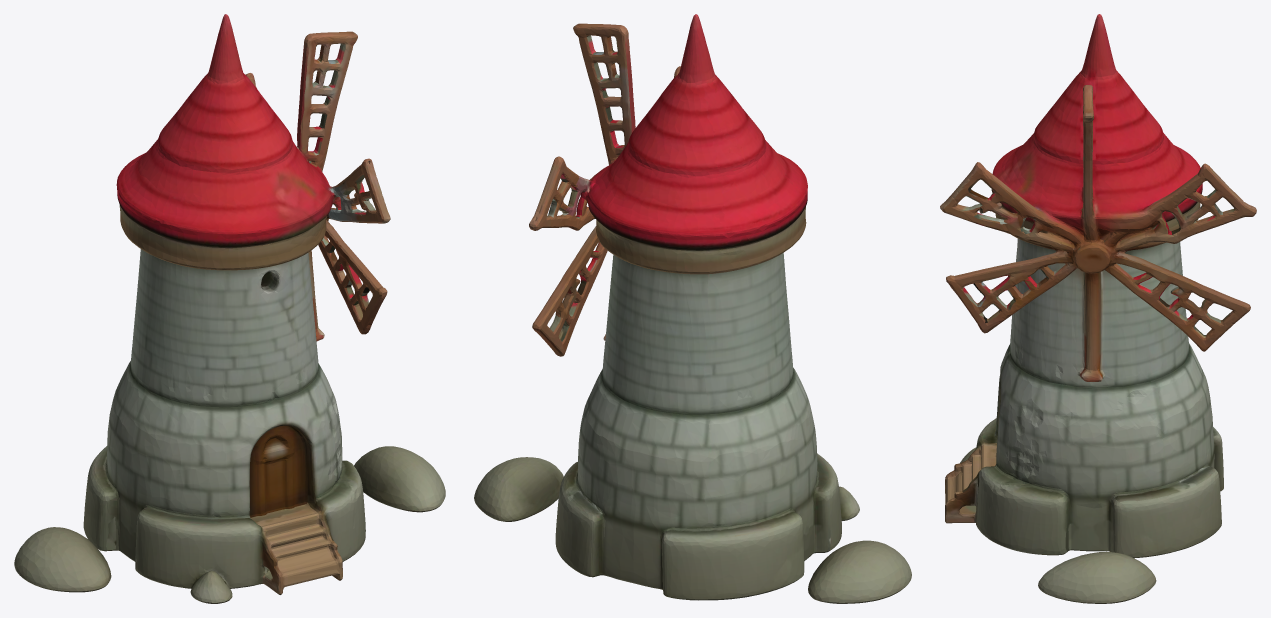
The model's file is mondstadt_windmill.glb.
3 views of the same model, side by side, from view 1: azimuth 30°, elevation 25°; view 2: azimuth 150°, elevation 25°; view 3: azimuth 270°, elevation 25° (orthographic). The views are drawn at different scales.
Visible parts, largest first — view 1: tmp2y2bq3x4.ply; view 2: tmp2y2bq3x4.ply; view 3: tmp2y2bq3x4.ply.
Part boxes in pixels (x1,y1,x2,y2): tmp2y2bq3x4.ply: [14, 14, 445, 603]; tmp2y2bq3x4.ply: [474, 14, 911, 603]; tmp2y2bq3x4.ply: [940, 14, 1256, 603].
Size of the model in its own units: 1.67 by 1.99 by 1.16.
1 material, 1 textured.
